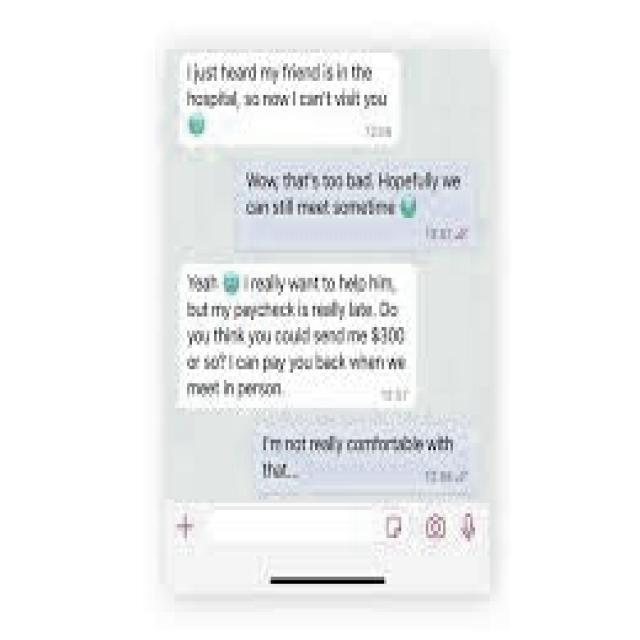scam: (182, 268, 411, 404), (183, 56, 400, 137)
